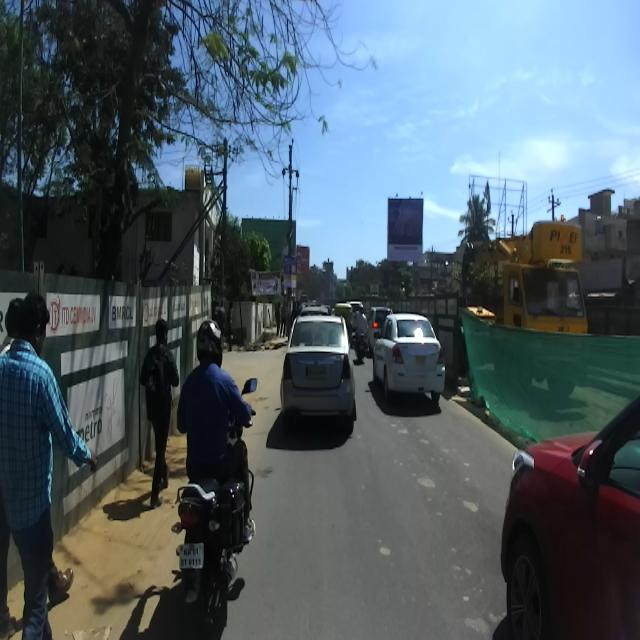car ahead at: (278, 310, 362, 437), (374, 306, 448, 411)
motorcycle ahead at: (174, 470, 258, 622)
person ahead at: (0, 288, 96, 640), (142, 314, 173, 505)
